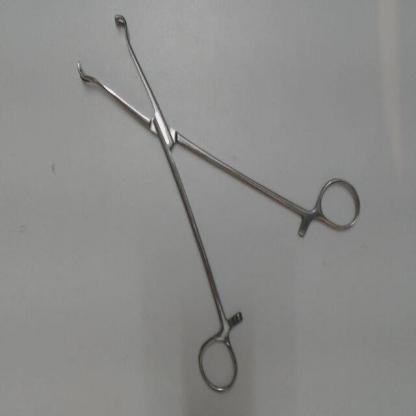8 Babcock Tissue Forceps: (73, 8, 365, 398)
